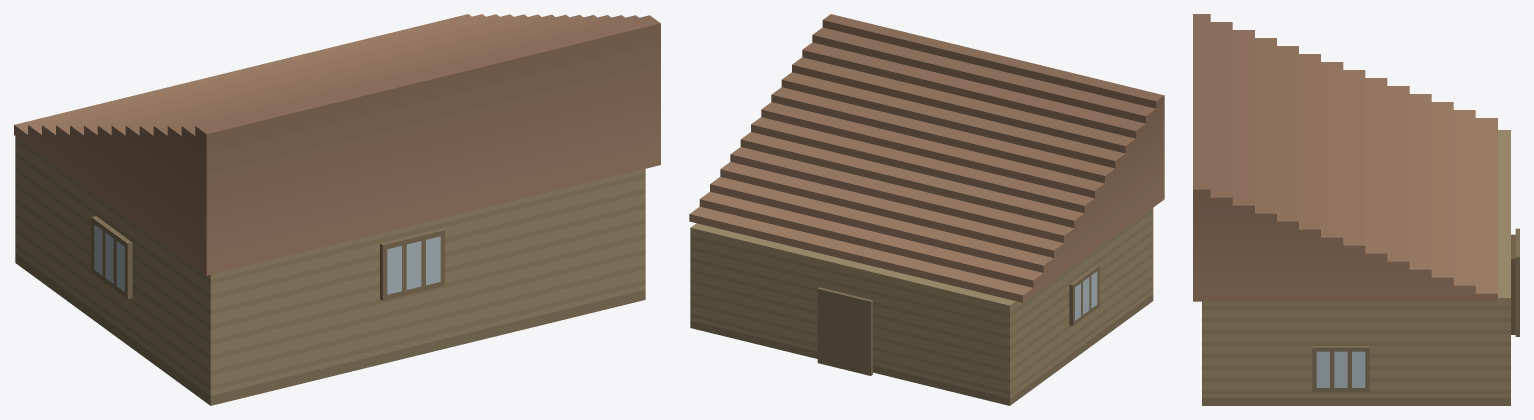
The model's file is molino_comunal_01.glb.
3 renders of one model, left to right at view 1: azimuth 30°, elevation 25°; view 2: azimuth 150°, elevation 25°; view 3: azimuth 270°, elevation 25°, orthographic. The views are drawn at different scales.
Visible parts, largest first — view 1: molino_comunal_01; view 2: molino_comunal_01; view 3: molino_comunal_01.
Boxes of the visible parts, left/top/right/bottom form: molino_comunal_01: left=14, top=14, right=660, bottom=405; molino_comunal_01: left=689, top=14, right=1164, bottom=405; molino_comunal_01: left=1193, top=14, right=1519, bottom=405.
Bounding box in the file's own units: 9.4 × 5.5 × 7.4.
